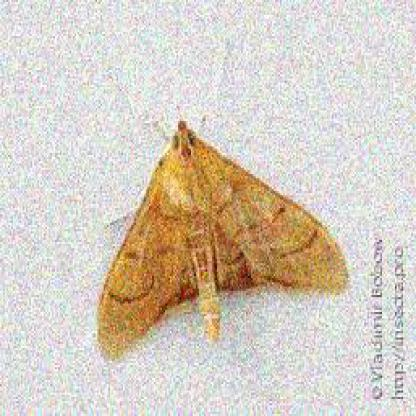Leaf Webber: (90, 112, 346, 370)
